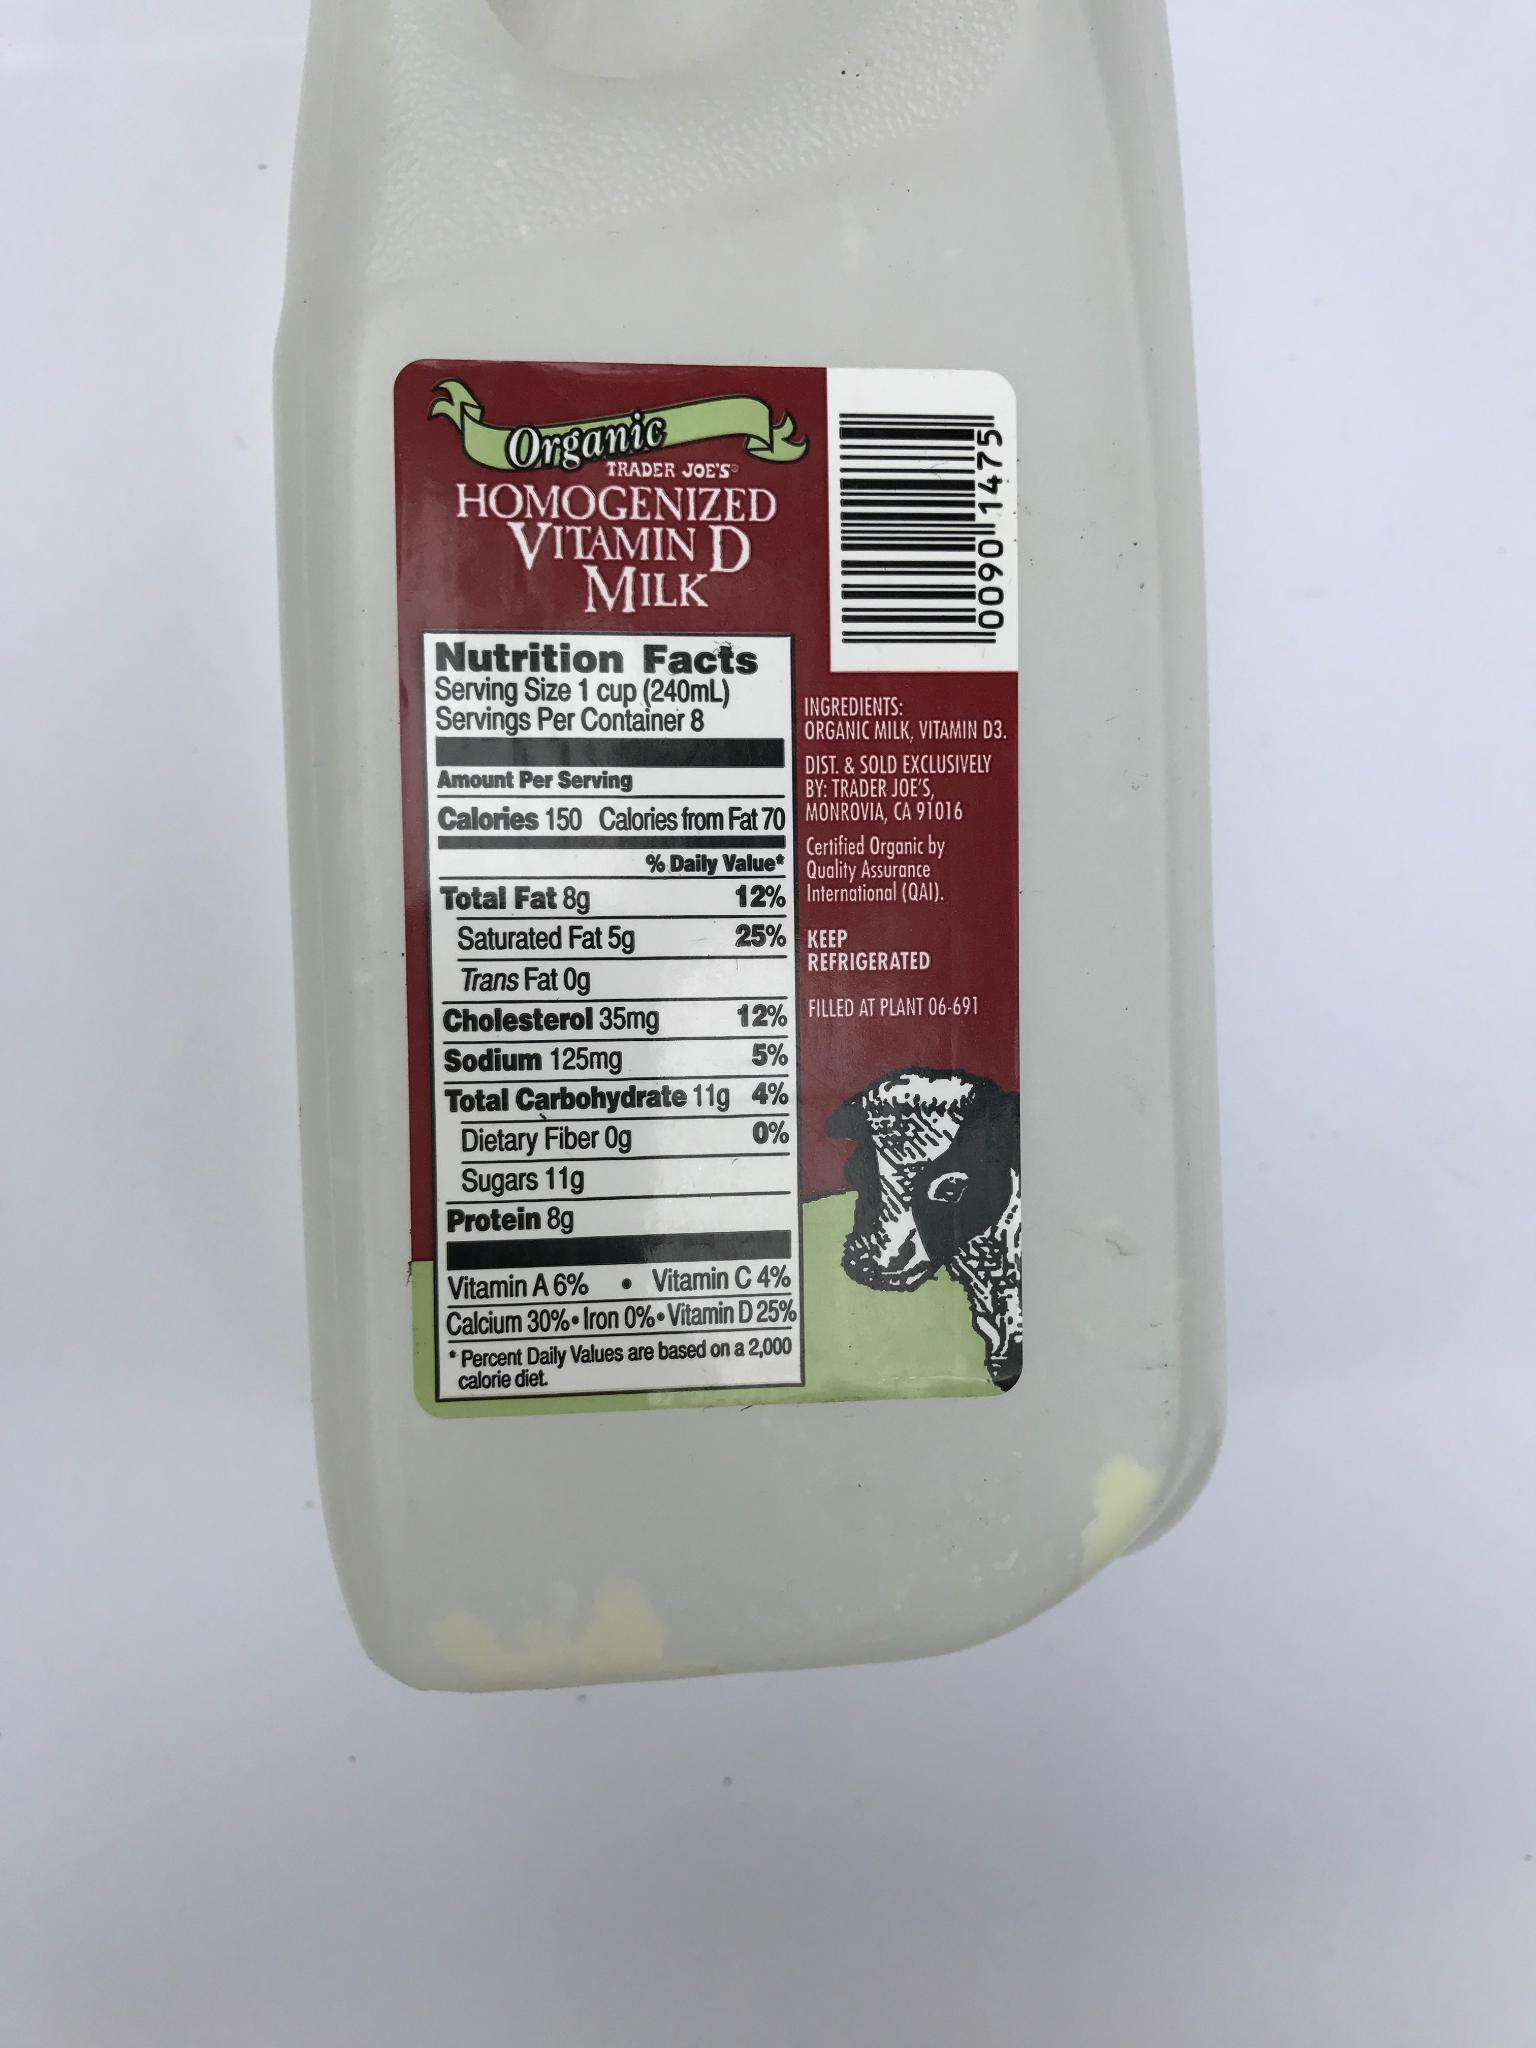Plastic: (281, 26, 1262, 1730)
